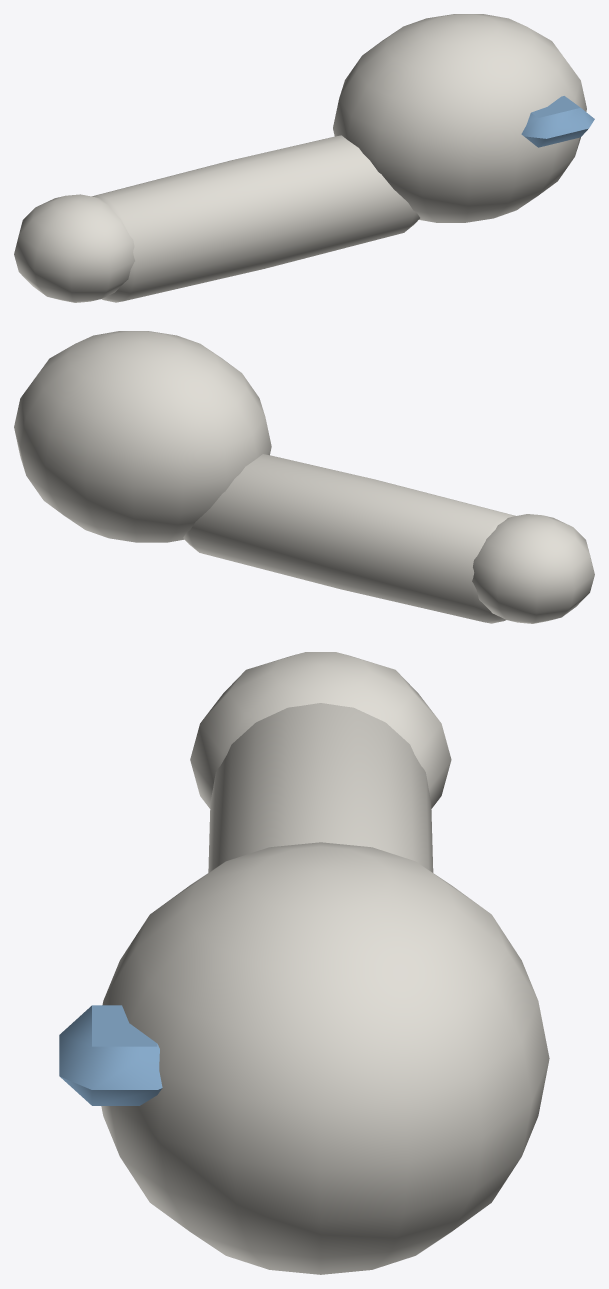
File: soap_sock.glb
The picture shows the model from 3 angles, top to bottom: view 1: azimuth 30°, elevation 25°; view 2: azimuth 150°, elevation 25°; view 3: azimuth 270°, elevation 25°; orthographic projection. The views are drawn at different scales.
Visible parts, largest first — view 1: sheet, plastic; view 2: sheet; view 3: sheet, plastic.
Part boxes in pixels (x1=…): sheet: x1=14, y1=14, x2=586, y2=302; plastic: x1=521, y1=96, x2=594, y2=147; sheet: x1=14, y1=331, x2=594, y2=623; sheet: x1=101, y1=652, x2=549, y2=1274; plastic: x1=59, y1=1005, x2=162, y2=1105.
Size of the model in its own units: 0.3885 by 0.128 by 0.15.
